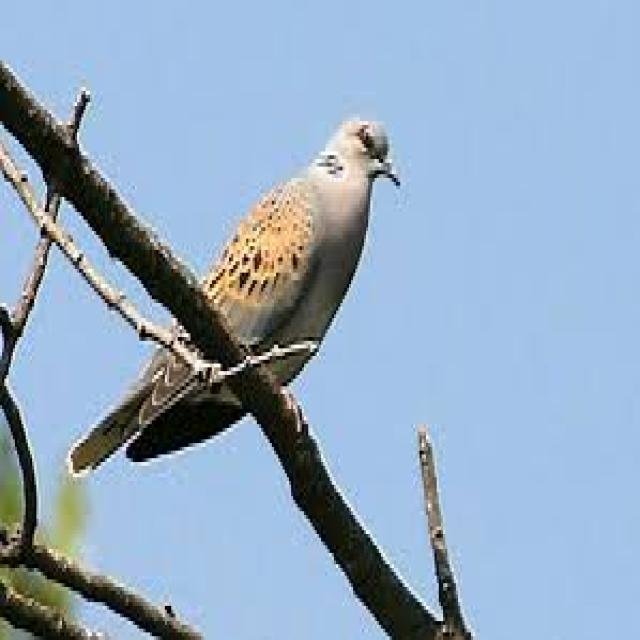pigeon: (57, 55, 410, 482)
